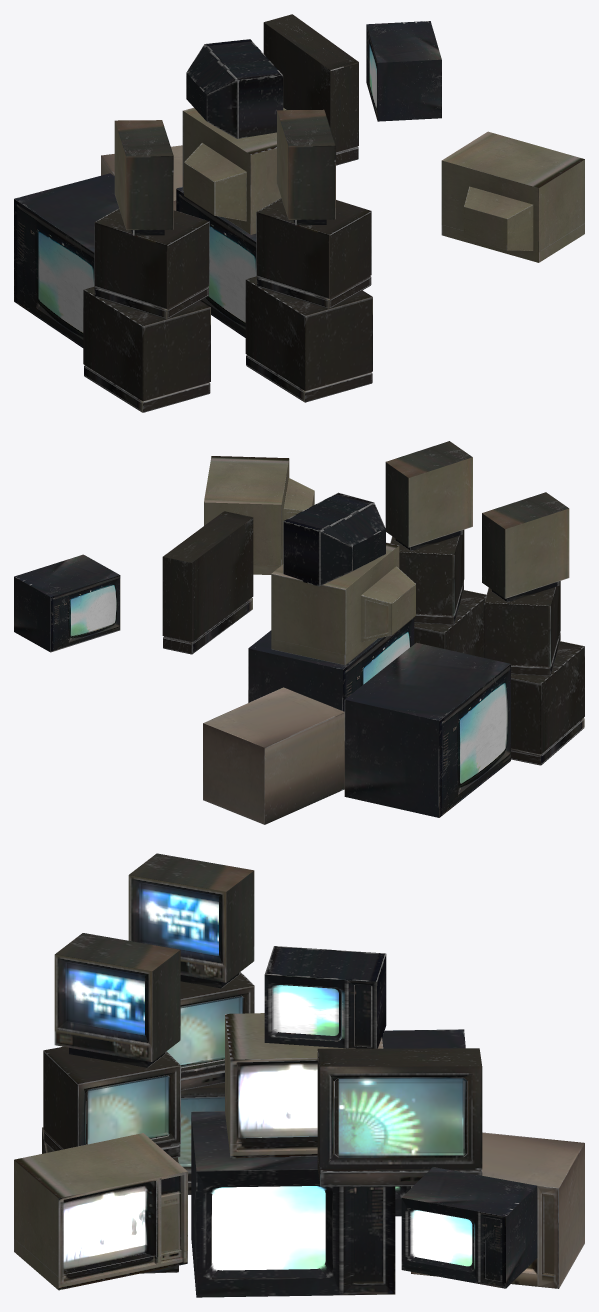
Rendered from Television.fbx.
The picture shows the model from 3 angles, top to bottom: view 1: azimuth 30°, elevation 25°; view 2: azimuth 150°, elevation 25°; view 3: azimuth 270°, elevation 25°; orthographic projection. The views are drawn at different scales.
Visible parts, largest first — view 1: TVsss_MADE_BY_DAFTVID_.009_Baked; view 2: TVsss_MADE_BY_DAFTVID_.009_Baked; view 3: TVsss_MADE_BY_DAFTVID_.009_Baked.
Part boxes in pixels (<box>): TVsss_MADE_BY_DAFTVID_.009_Baked: <box>14,14,584,412</box>; TVsss_MADE_BY_DAFTVID_.009_Baked: <box>14,441,584,824</box>; TVsss_MADE_BY_DAFTVID_.009_Baked: <box>14,853,584,1297</box>.
Size of the model in its own units: 841 by 439 by 746.
